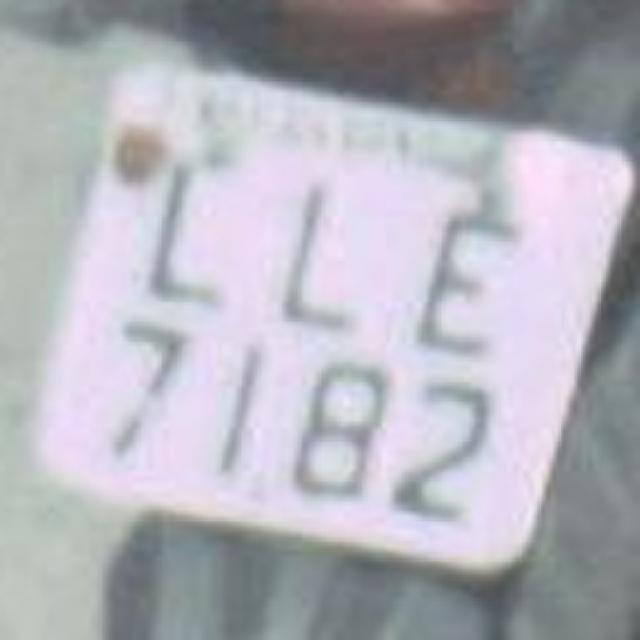1: (175, 316, 280, 504)
2: (369, 355, 516, 540)
3: (368, 351, 524, 544), (392, 189, 528, 356)
7: (76, 300, 204, 492)
8: (264, 329, 408, 516)
L: (244, 160, 396, 340)
